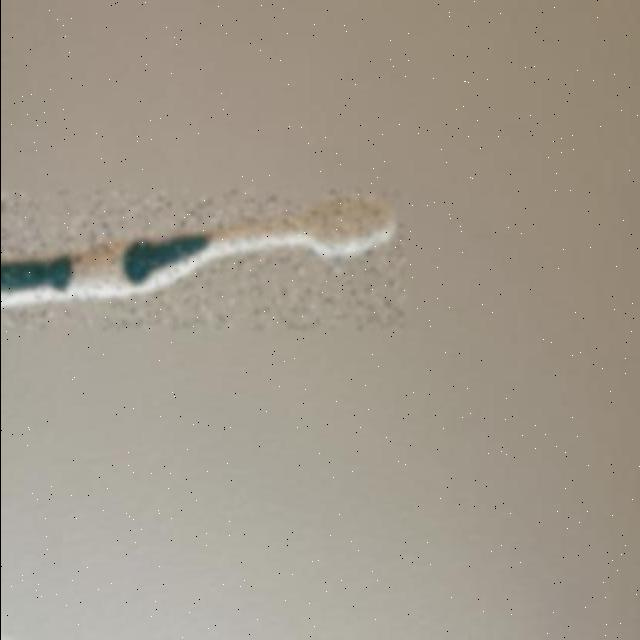toothbrush: (0, 191, 404, 329)
